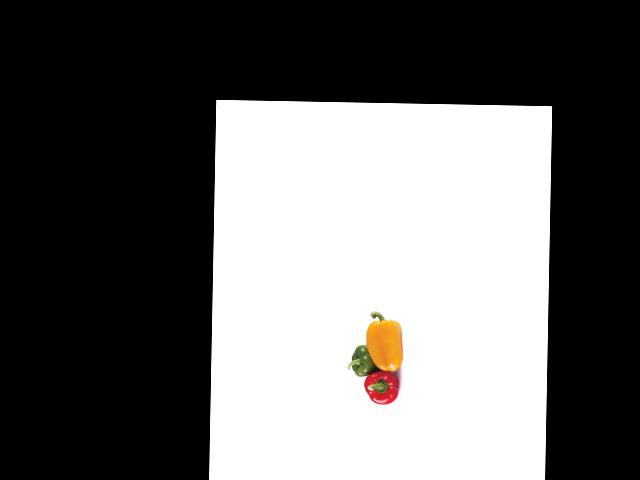bell_pepper: (347, 341, 380, 380)
